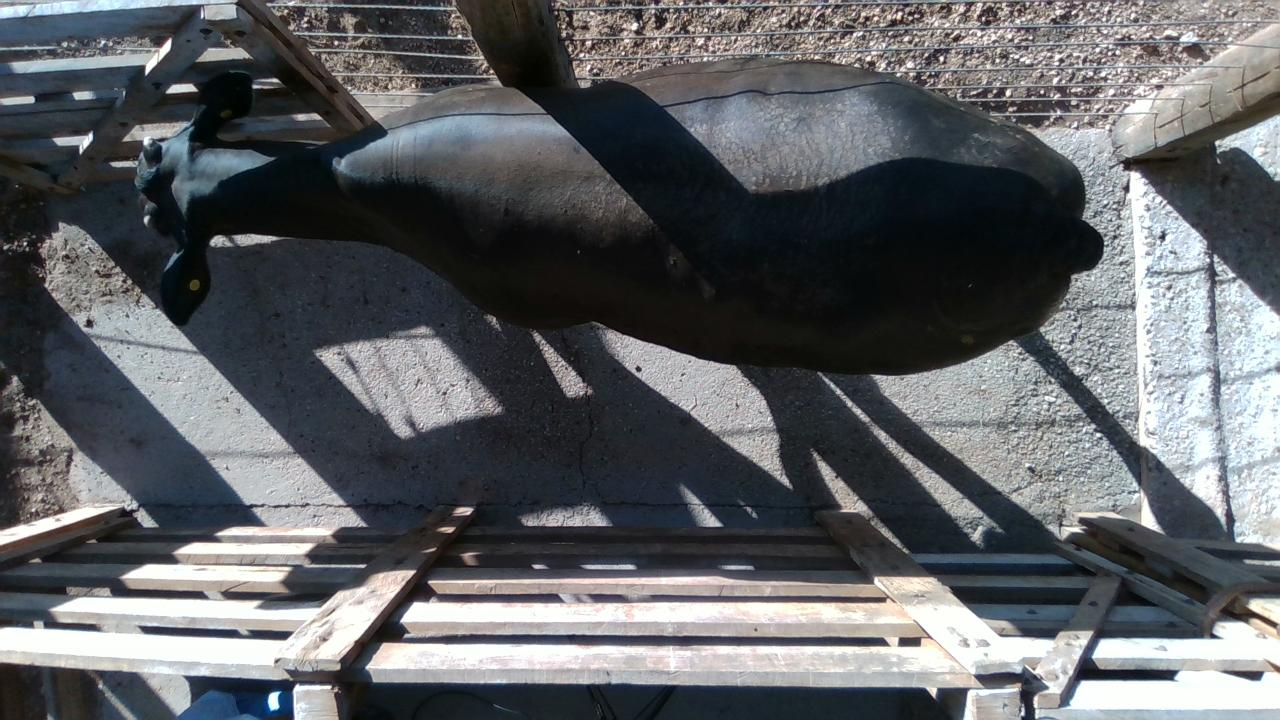cattle: (133, 55, 1104, 376)
